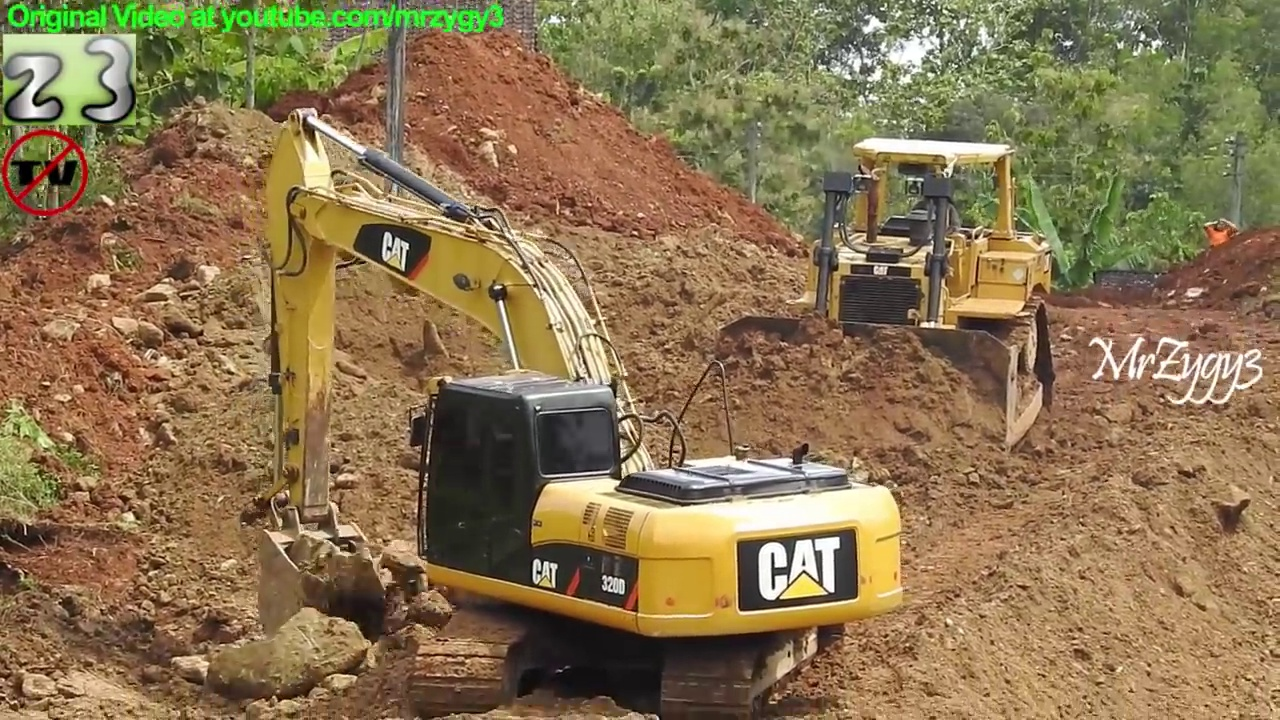bulldozer: (715, 133, 1051, 471)
excavator: (246, 94, 908, 717)
